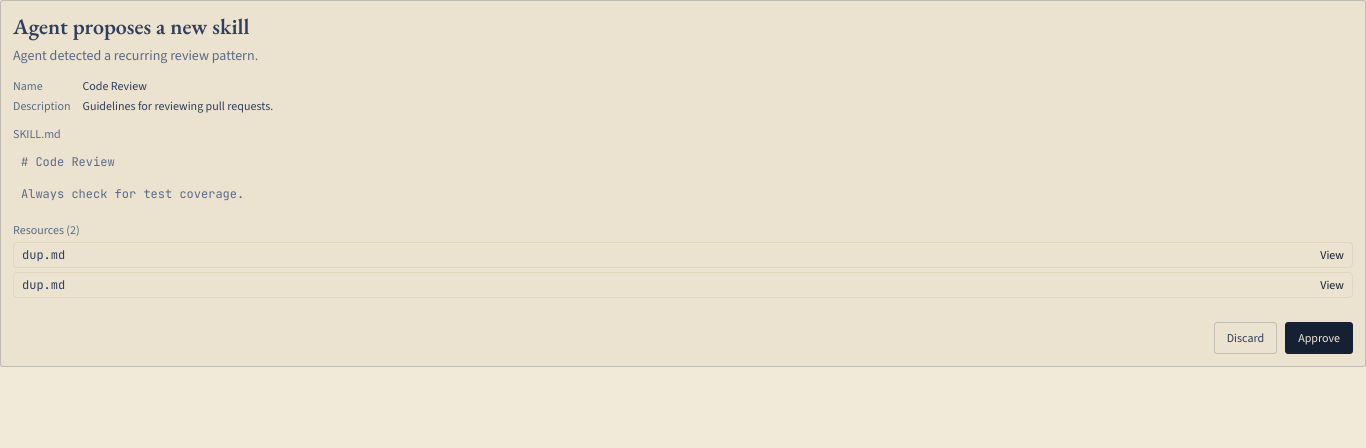
Scenario: SkillProposalCard › two resources with identical relative_path both render and expand independently
The image size is (1366, 448).
Expand first row.
Click the 1st button "View": (1332, 255) top-left (1320, 247), bottom-right (1344, 263)
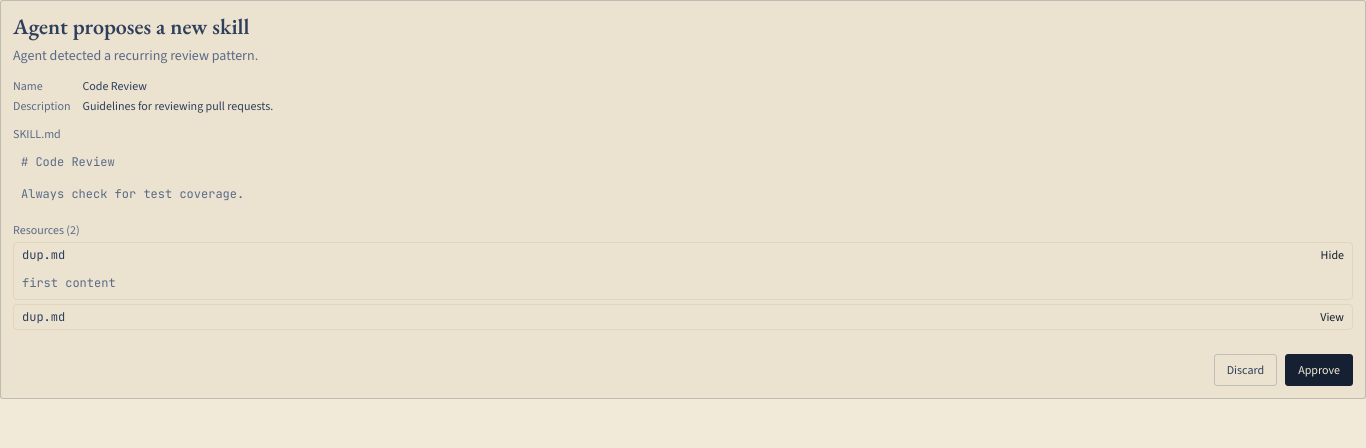
Expected: the text "first content" is shown, top-left (14, 267), bottom-right (1352, 299)
Expected: the text with test id "resource-content-0" reads "first content", top-left (22, 275), bottom-right (116, 291)
Click the button "View": (1332, 317) top-left (1320, 309), bottom-right (1344, 325)
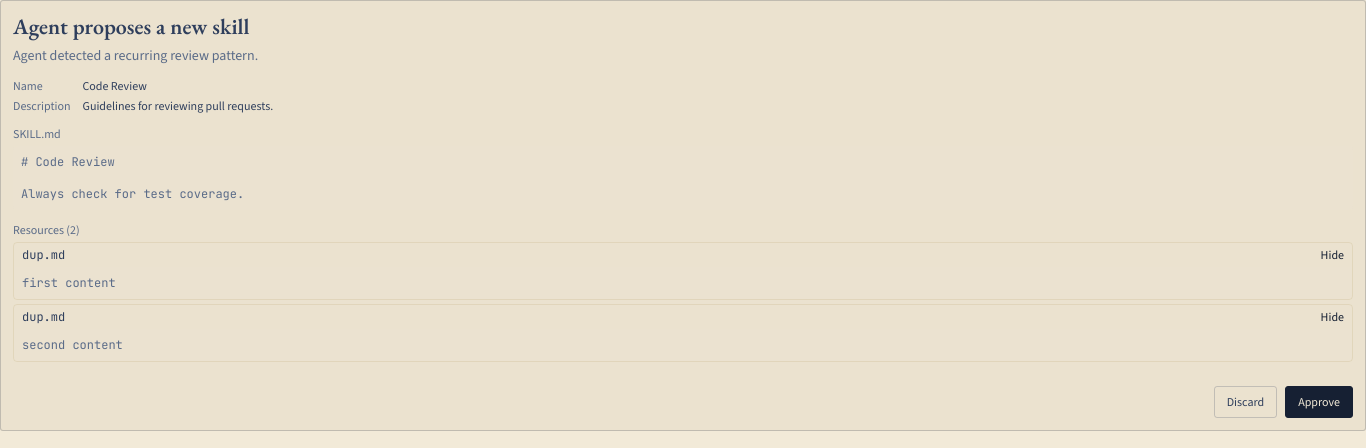
Expected: the text "second content" is shown, top-left (14, 329), bottom-right (1352, 361)
Expected: the text with test id "resource-content-1" reads "second content", top-left (22, 337), bottom-right (123, 353)
